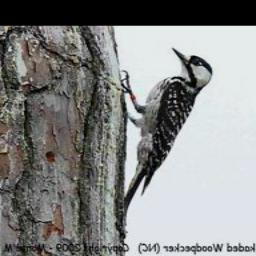Woodpecker: (117, 47, 216, 227)
